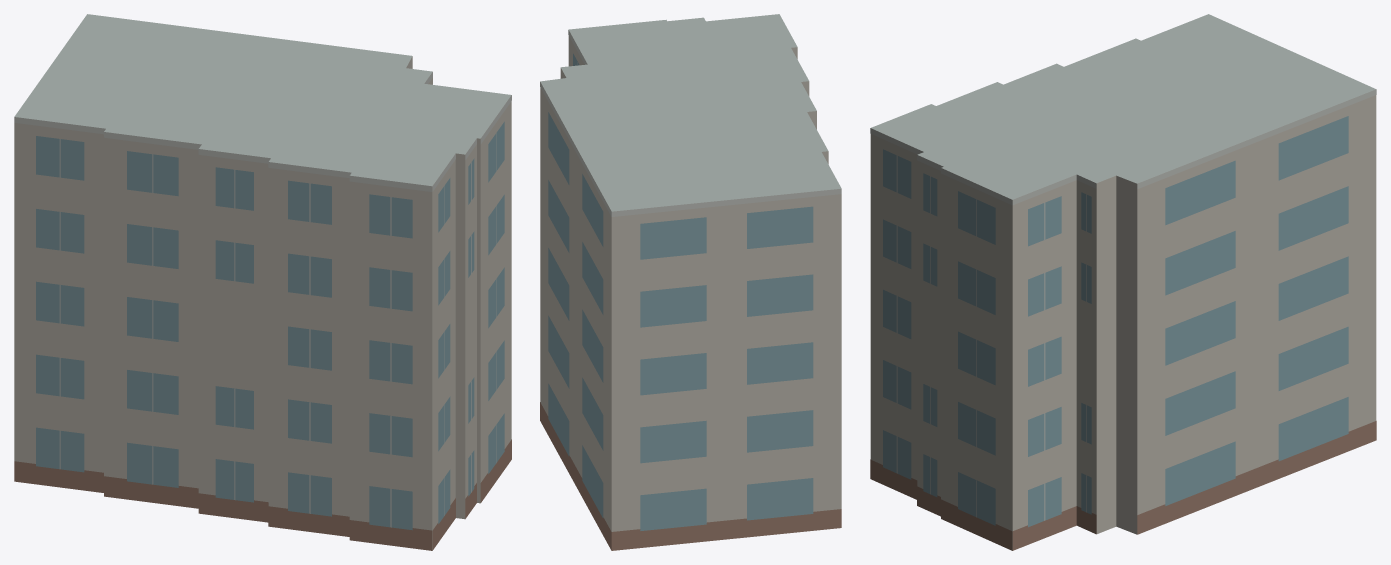
Rendered from survey-upis-32655134.glb.
The picture shows the model from 3 angles, left to right: view 1: azimuth 30°, elevation 25°; view 2: azimuth 150°, elevation 25°; view 3: azimuth 270°, elevation 25°; orthographic projection. The views are drawn at different scales.
Visible parts, largest first — view 1: survey-upis-32655134.tmp; view 2: survey-upis-32655134.tmp; view 3: survey-upis-32655134.tmp.
Boxes of the visible parts, left/top/right/bottom form: survey-upis-32655134.tmp: left=14, top=14, right=511, bottom=550; survey-upis-32655134.tmp: left=540, top=14, right=841, bottom=550; survey-upis-32655134.tmp: left=870, top=14, right=1376, bottom=550.
Bounding box in the file's own units: 17.32 × 15.25 × 19.93.
